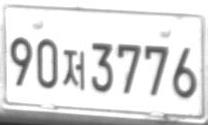0: (36, 38, 58, 89)
3: (90, 42, 114, 92)
6: (172, 46, 197, 99)
7: (144, 45, 169, 95), (117, 43, 141, 94)
9: (9, 36, 33, 86)
저: (62, 49, 85, 89)
